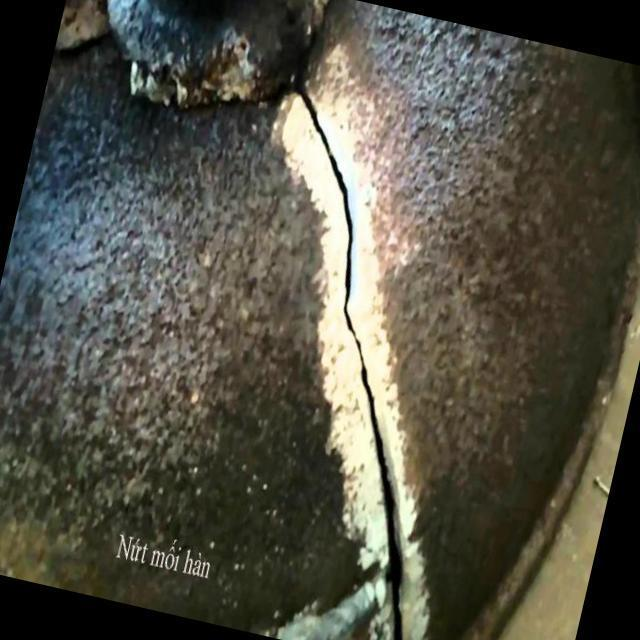defect: (293, 66, 411, 640)
